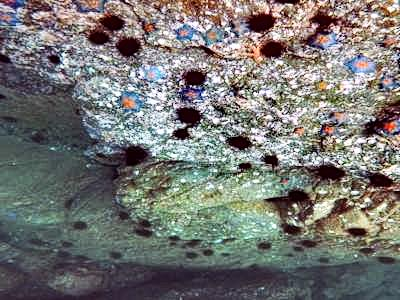urchin: (318, 162, 342, 179), (117, 37, 139, 55), (253, 14, 273, 30), (260, 41, 281, 56), (177, 107, 198, 121), (125, 147, 147, 160), (372, 172, 391, 186), (185, 70, 203, 83), (229, 136, 249, 147), (90, 28, 105, 42), (100, 18, 120, 28), (267, 153, 278, 163)
